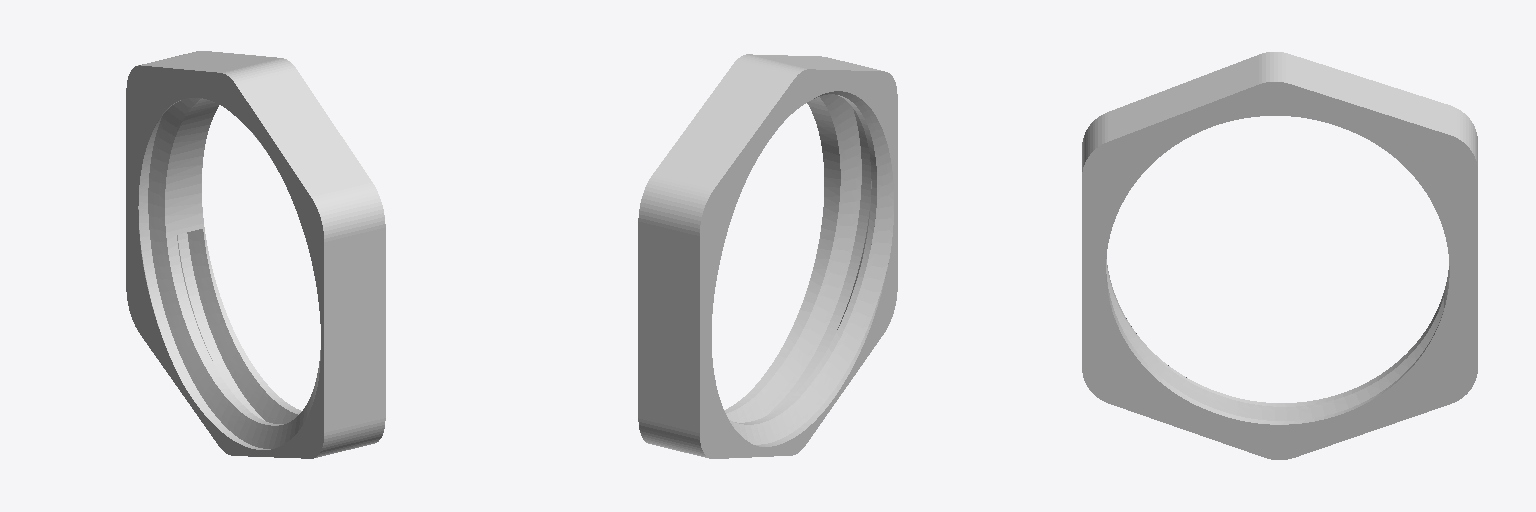
File: nut2.obj
The picture shows the model from 3 angles: view 1: azimuth 30°, elevation 25°; view 2: azimuth 150°, elevation 25°; view 3: azimuth 270°, elevation 25°; orthographic projection.
Visible parts, largest first — view 1: nut2; view 2: nut2; view 3: nut2.
Boxes of the visible parts, x1,y1,x2,y2 form: nut2: [126, 51, 385, 458]; nut2: [638, 54, 897, 458]; nut2: [1082, 52, 1477, 459].
Size of the model in its own units: 5 by 29.56 by 28.